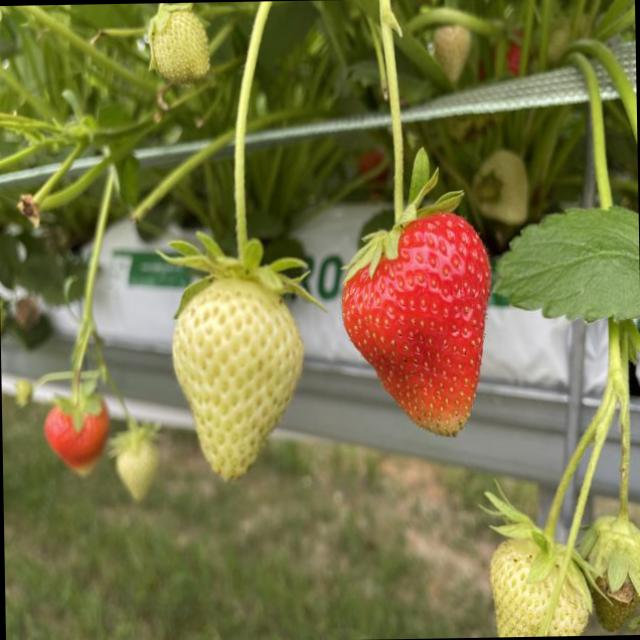stem: (160, 1, 317, 316), (347, 0, 462, 281)
strawberryNR: (172, 278, 303, 479)
strawberryR: (343, 212, 490, 435), (44, 404, 109, 473)
